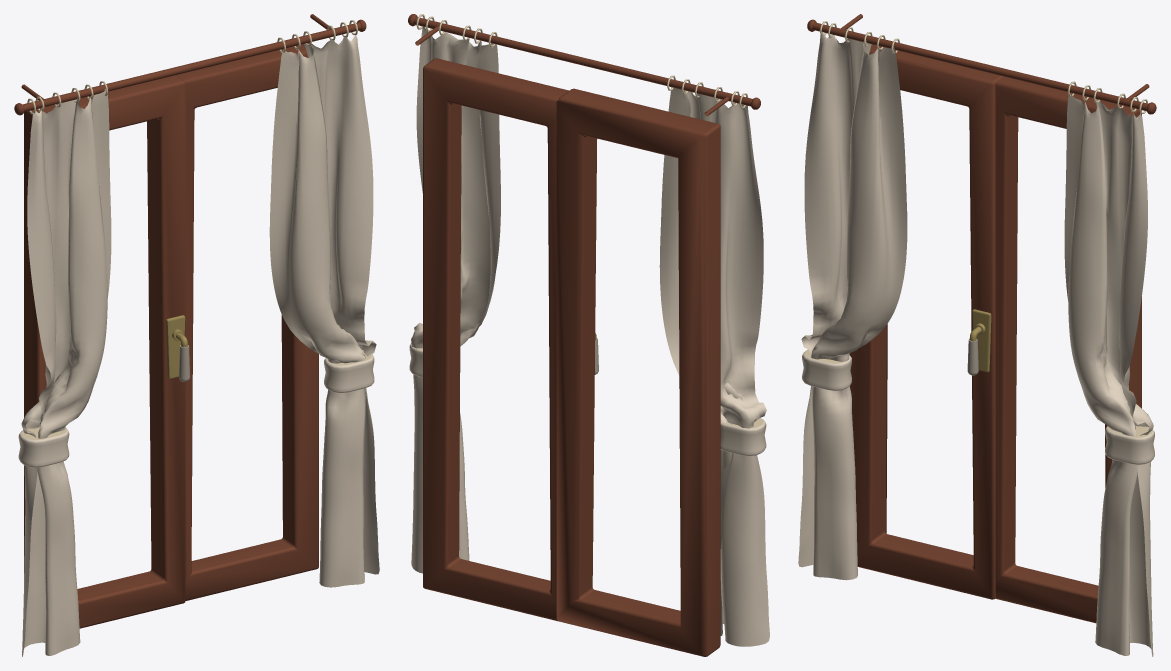
The model's file is Window.glb.
3 renders of one model, left to right at view 1: azimuth 30°, elevation 25°; view 2: azimuth 150°, elevation 25°; view 3: azimuth 330°, elevation 25°, orthographic.
Visible parts, largest first — view 1: Window; view 2: Window; view 3: Window.
Part boxes in pixels (left/top/right/bottom): Window: left=14, top=14, right=379, bottom=656; Window: left=408, top=14, right=769, bottom=656; Window: left=798, top=14, right=1156, bottom=656.
Bounding box in the file's own units: 1.43 × 2.12 × 0.2715.
Materials: 1 (1 with a texture image).
